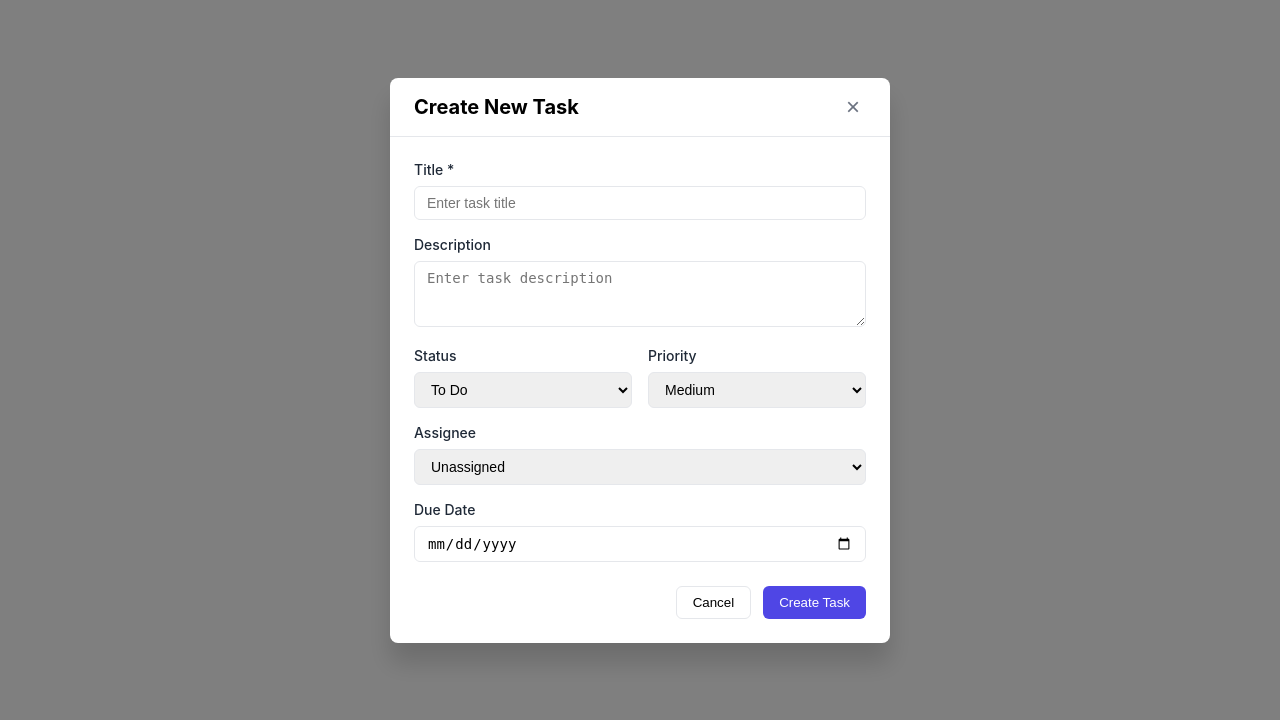
Test case: TaskForm › should clear assignee error when priority is changed from high
Type "Test task" into the field with test id "form-title-input".
click(640, 202); type("Test task")  # box [414, 186, 866, 220]
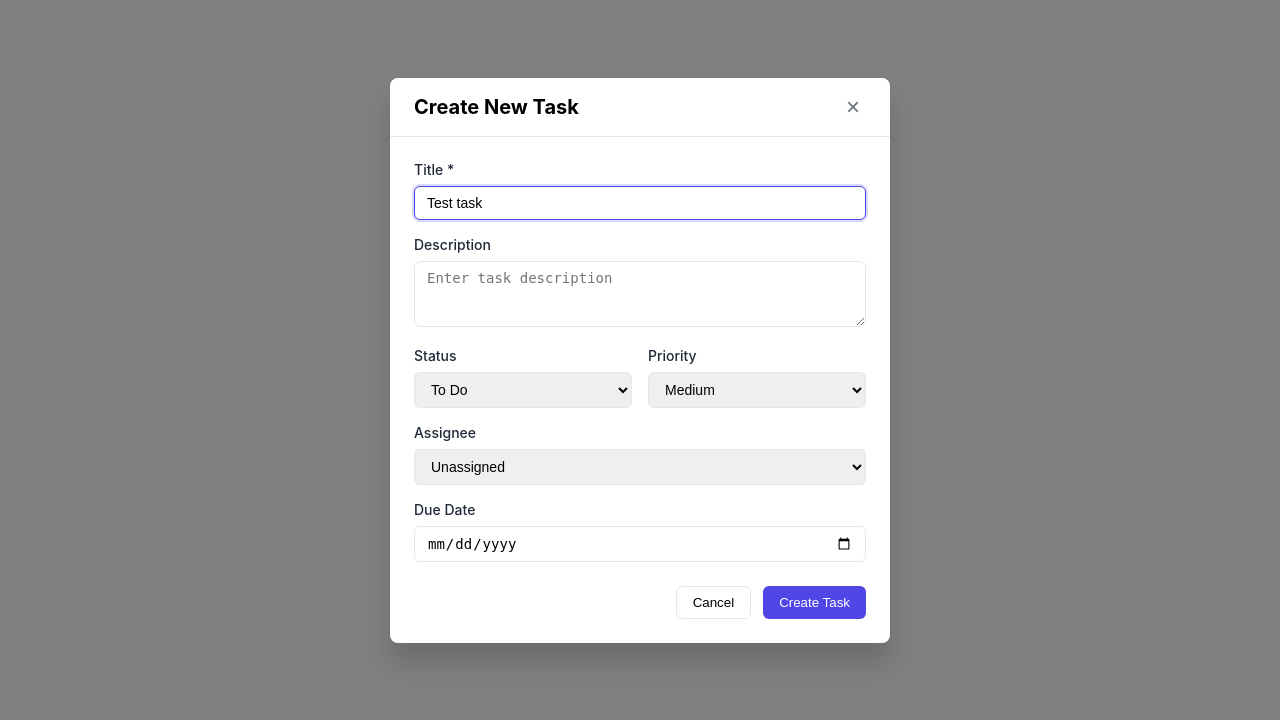
Select "High" in the dropdown with test id "form-priority-input" at (757, 390), box [648, 372, 866, 408]
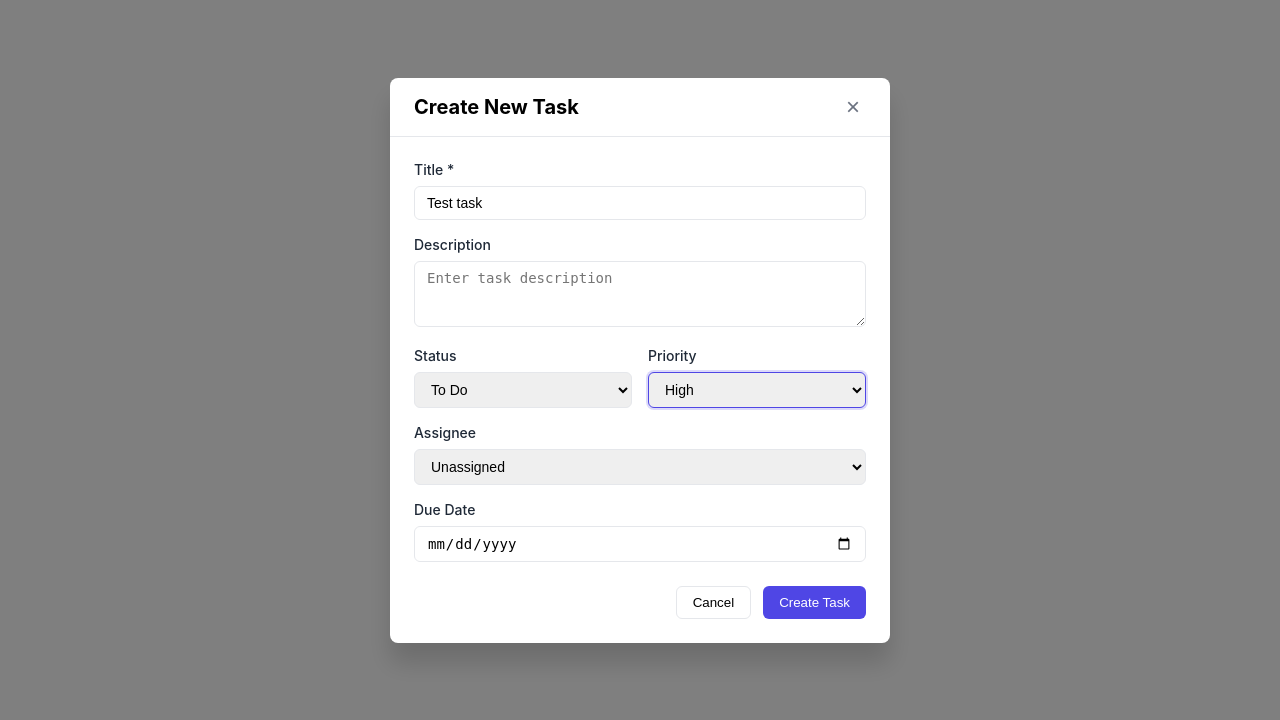
Click the button with test id "form-submit-button".
click(815, 602)  # box [763, 586, 866, 618]
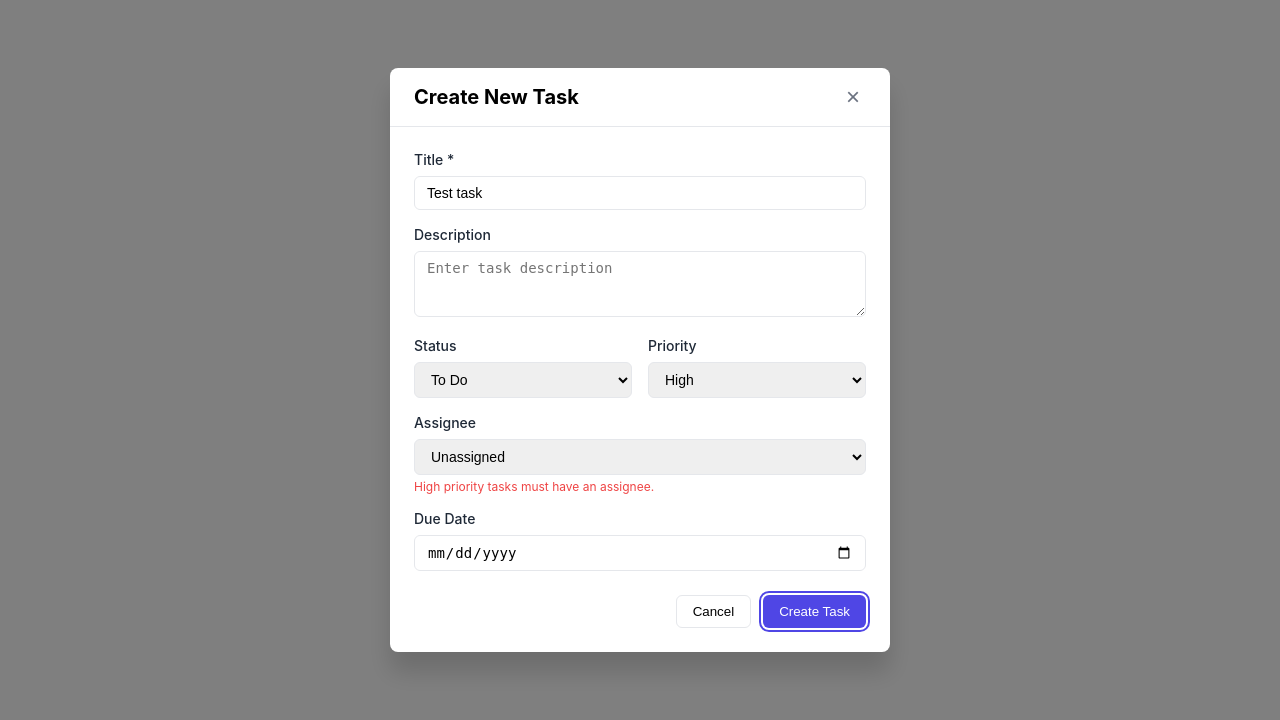
Expected: the message "High priority tasks must have an assignee." is shown, [414, 479, 654, 494]
Select "Low" in the dropdown with test id "form-priority-input" at (757, 380), box [648, 362, 866, 398]
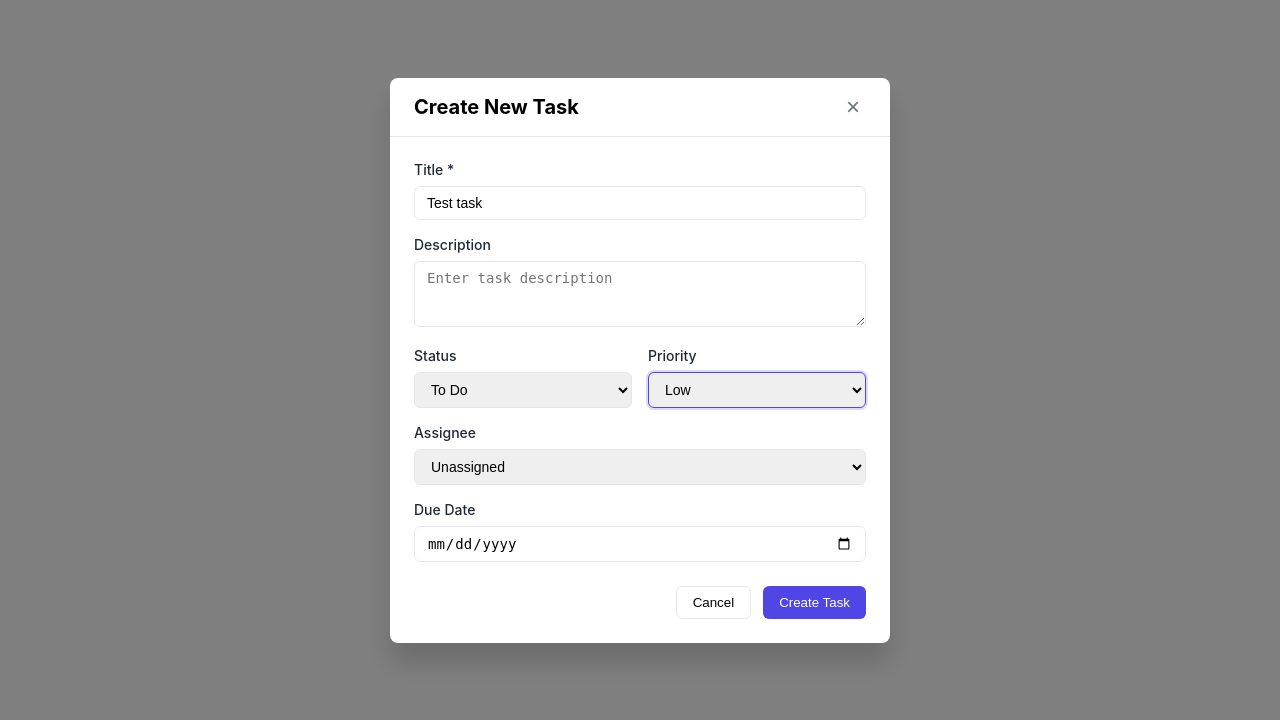
Expected: the message with test id "form-assignee-error" is gone
